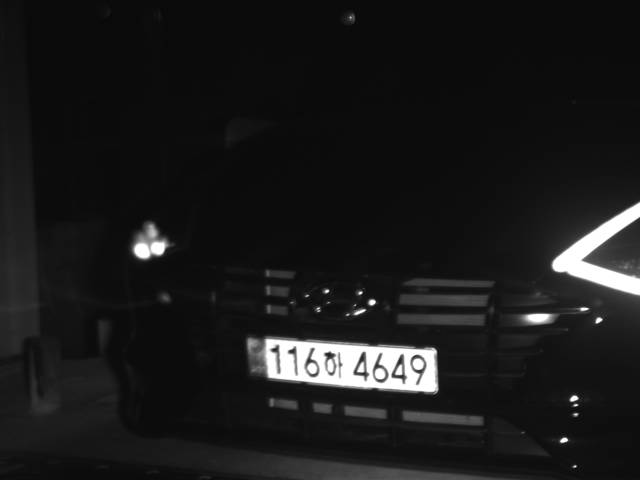car: (94, 1, 639, 479)
plate: (245, 335, 441, 395)
